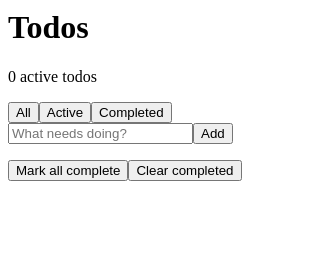
Test case: TodoApp › deletes only the selected todo
Step 1. Type "Buy milk" into the field named "New todo" → x=100, y=133, box [8,123,193,144]
Step 2. Click the button "Add" → x=213, y=133, box [193,123,233,144]
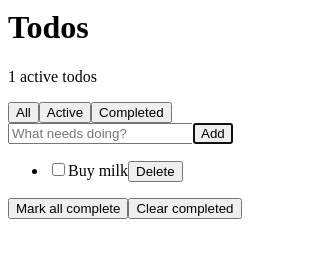
Step 3. Type "Walk dog" into the field named "New todo" → x=100, y=133, box [8,123,193,144]
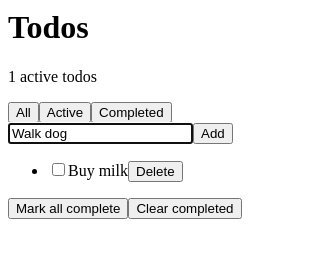
Step 4. Click the button "Add" → x=213, y=133, box [193,123,233,144]
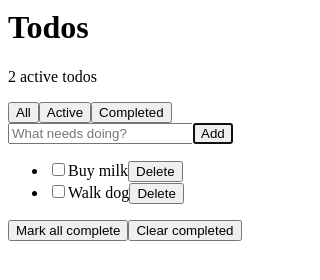
Step 5. Type "Write code" into the field named "New todo" → x=100, y=133, box [8,123,193,144]
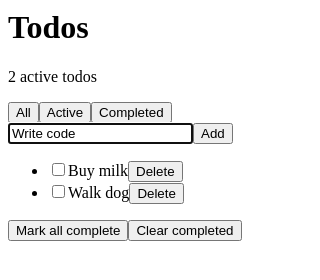
Step 6. Click the button "Add" → x=213, y=133, box [193,123,233,144]
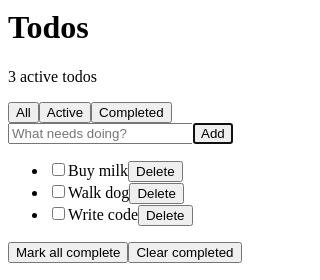
Step 7. Click the button with aria-label "Delete Walk dog" → x=157, y=193, box [129,183,184,204]
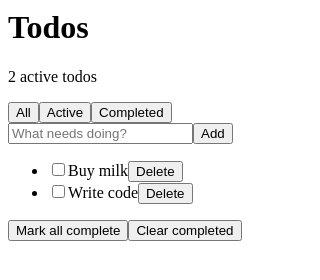
Check: the text "Buy milk" is shown, box [68,162,128,179]
Check: the text "Write code" is shown, box [68,184,138,201]
Check: the text "Walk dog" is gone
